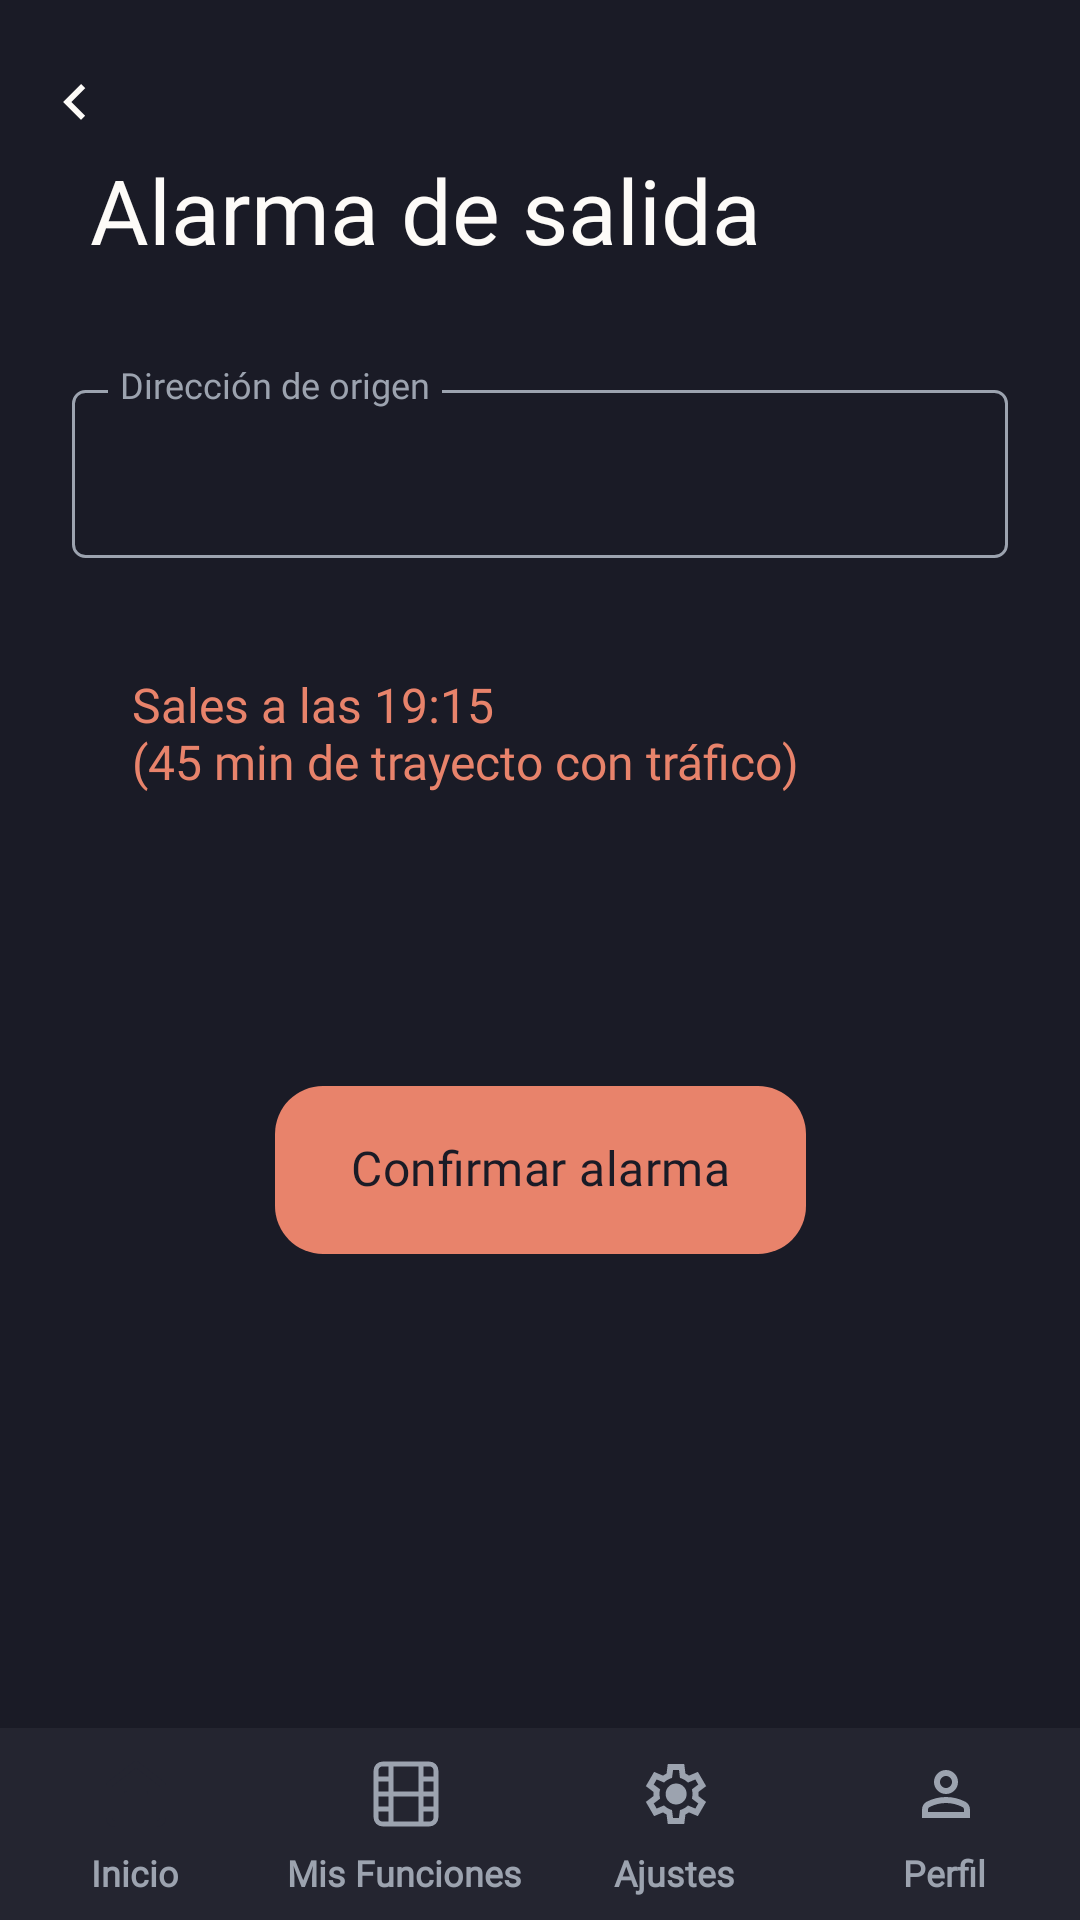

Screen size 1080px×1920px. Icon name, then its box in pixels as (x1, y1, x2, y2):
Volver: (63, 84, 85, 120)
